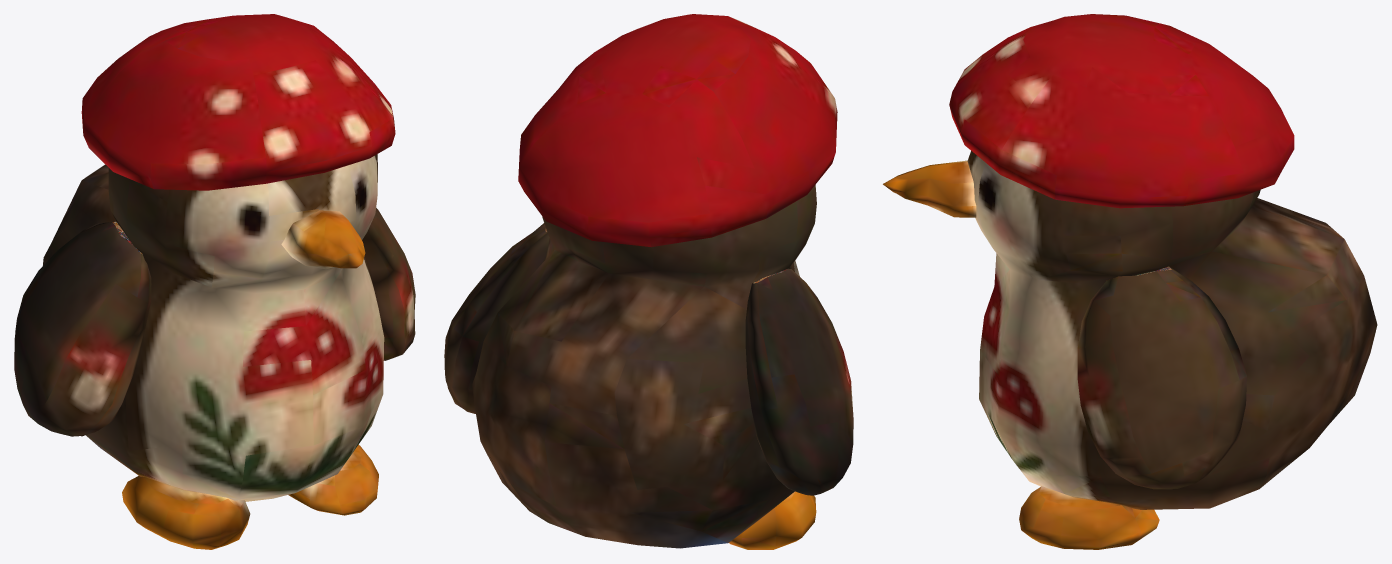
File: penguin-01-24-mushroom-cap.gltf
3 views of the same model, side by side, from view 1: azimuth 30°, elevation 25°; view 2: azimuth 150°, elevation 25°; view 3: azimuth 270°, elevation 25° (orthographic). The views are drawn at different scales.
Parts seen in each view (by area): view 1: penguin-01-24-mushroom-cap; view 2: penguin-01-24-mushroom-cap; view 3: penguin-01-24-mushroom-cap.
Boxes of the visible parts, <box> form: penguin-01-24-mushroom-cap: <box>14,14,415,549</box>; penguin-01-24-mushroom-cap: <box>444,14,853,549</box>; penguin-01-24-mushroom-cap: <box>883,14,1377,549</box>.
Bounding box in the file's own units: 0.2 × 0.2418 × 0.229.
1 material, 1 textured.
